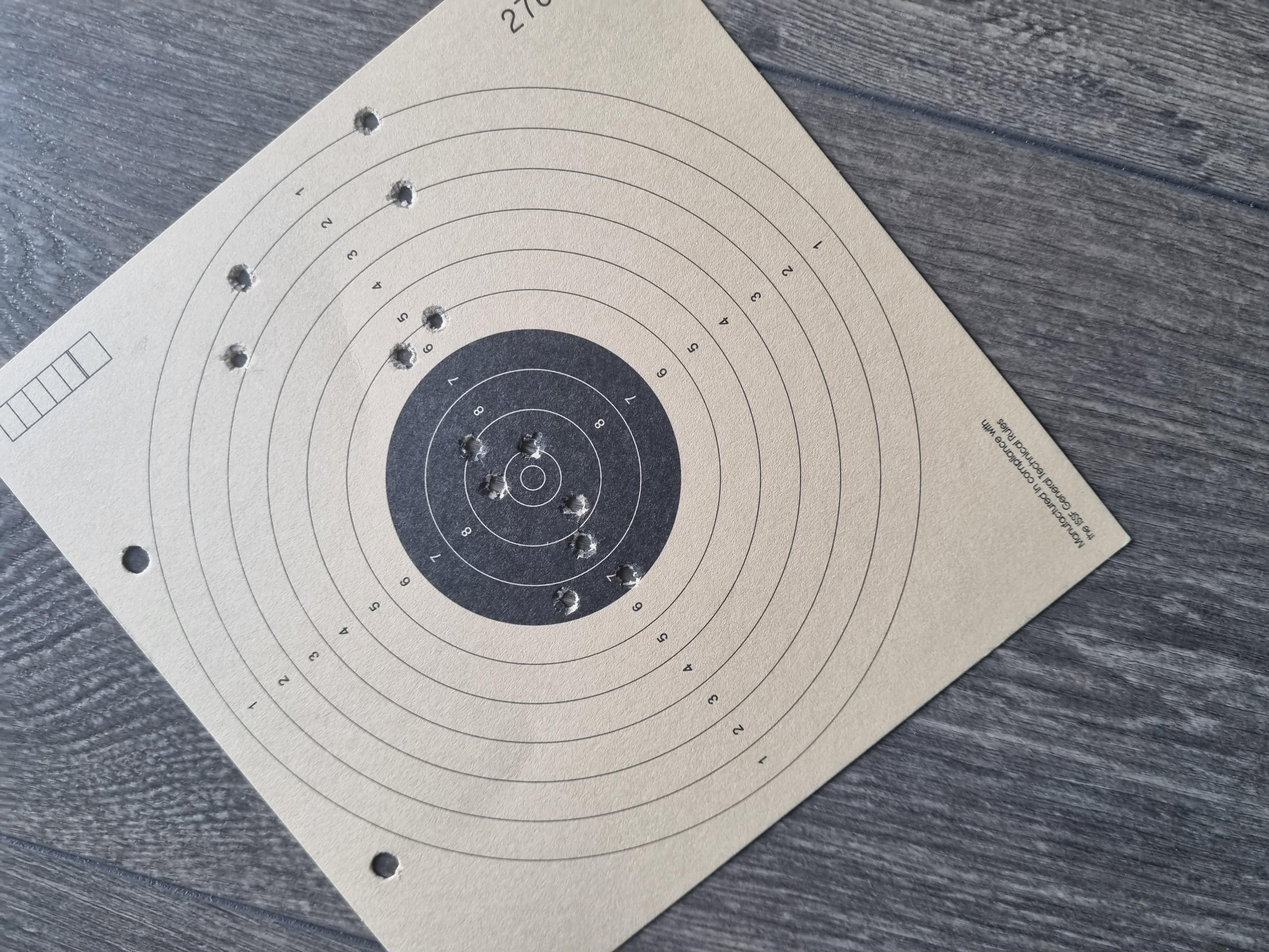hole: (876, 170, 919, 192), (1087, 264, 1128, 287), (773, 164, 811, 188), (991, 290, 1029, 313), (602, 358, 638, 382), (652, 343, 691, 365), (448, 415, 485, 436), (656, 387, 691, 409), (575, 421, 611, 442), (775, 292, 812, 312), (525, 427, 560, 448), (826, 317, 861, 336), (485, 461, 517, 481)
